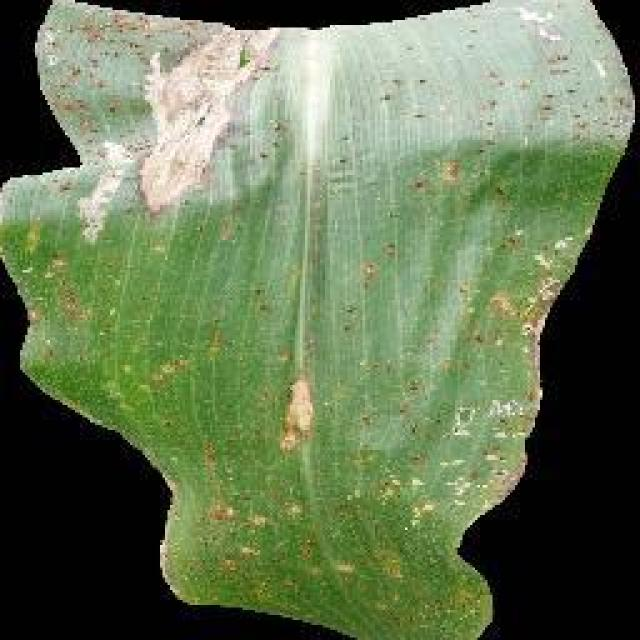Corn Common Rust: (115, 93, 518, 535)
